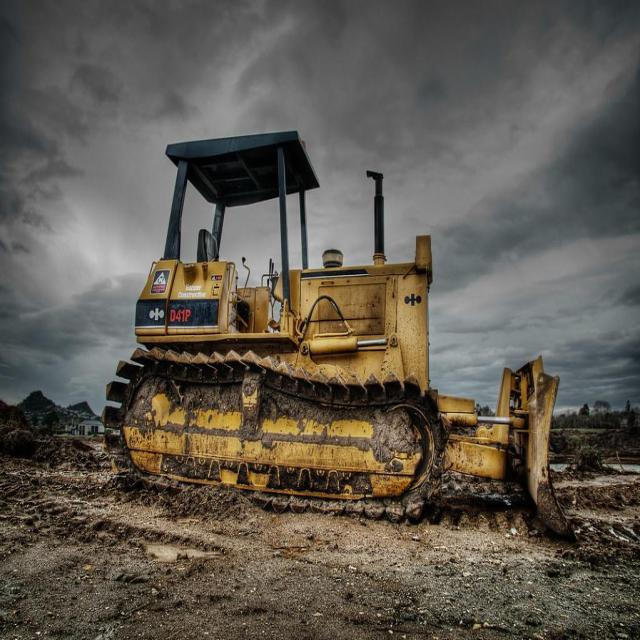buldozerpayloadergrader: (99, 122, 587, 557)
